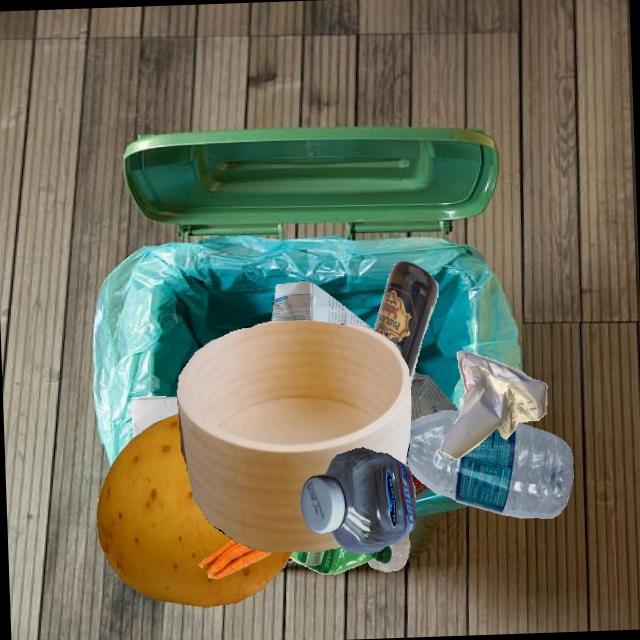biowaste: (96, 413, 292, 607), (197, 539, 271, 578)
combustible waste: (176, 320, 411, 552)
glass: (289, 465, 417, 557), (373, 260, 438, 387), (413, 481, 415, 497)
paper: (440, 350, 547, 460), (271, 280, 373, 330), (410, 371, 457, 422), (130, 396, 178, 437)
plastic: (406, 410, 573, 518), (300, 447, 415, 553), (289, 545, 390, 574), (367, 532, 409, 571)
